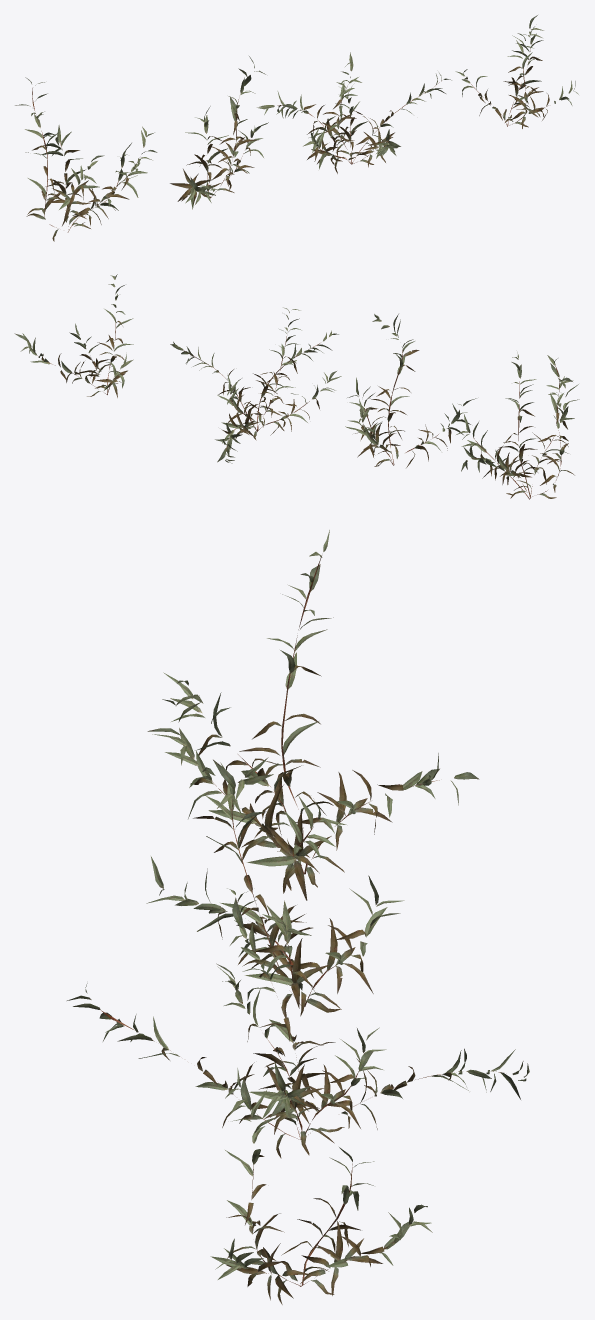
The model's file is shrub_02.glb.
3 renders of one model, top to bottom at view 1: azimuth 30°, elevation 25°; view 2: azimuth 150°, elevation 25°; view 3: azimuth 270°, elevation 25°, orthographic. The views are drawn at different scales.
Parts seen in each view (by area): view 1: shrub_02_a; view 2: shrub_02_a; view 3: shrub_02_a.
Part boxes in pixels (<box>): shrub_02_a: <box>15,15,578,241</box>; shrub_02_a: <box>14,274,579,499</box>; shrub_02_a: <box>67,530,529,1304</box>.
Size of the model in its own units: 6.05 by 1.7 by 2.28.
1 material, 1 textured.
